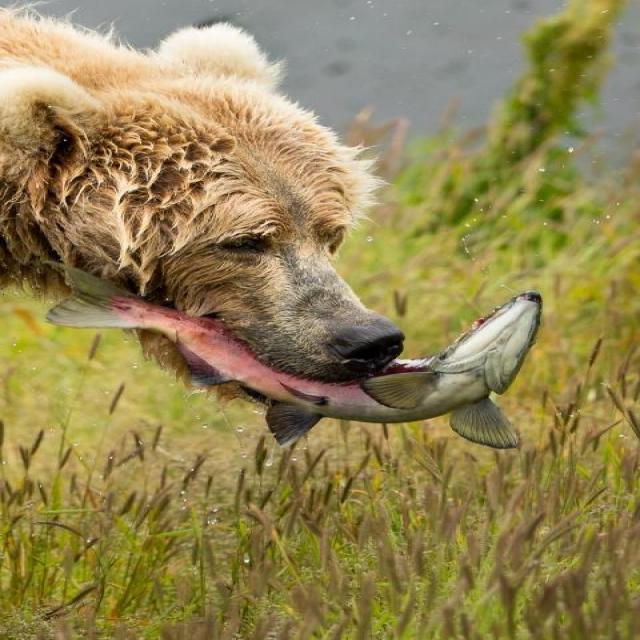Bear: (0, 12, 417, 386)
